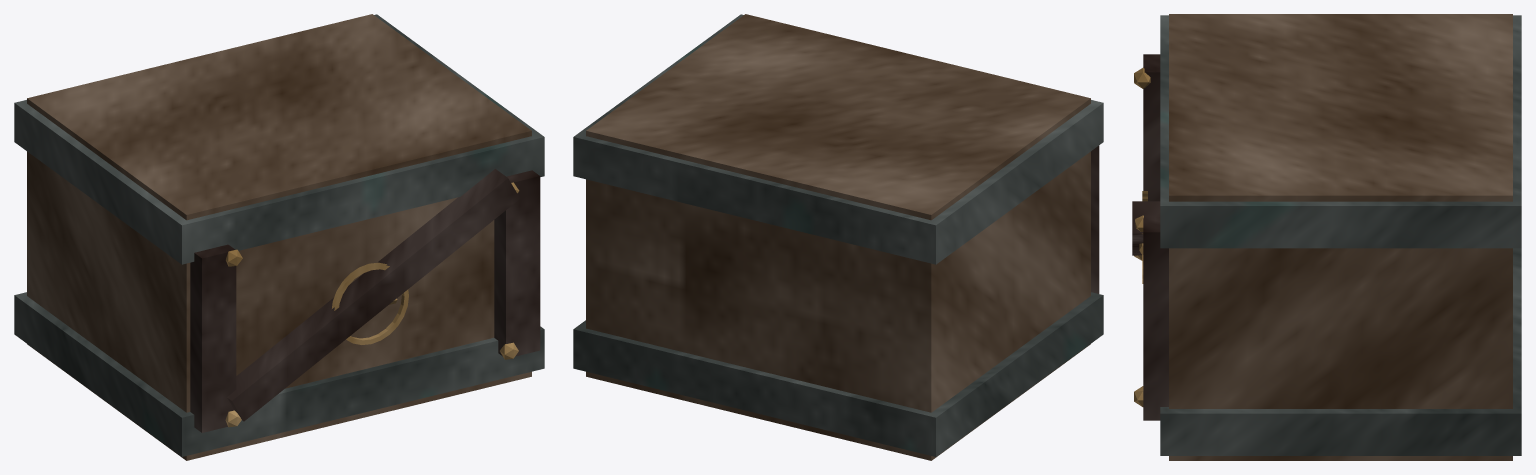
Rendered from 0739_supply_crate_14.glb.
The picture shows the model from 3 angles, left to right: view 1: azimuth 30°, elevation 25°; view 2: azimuth 150°, elevation 25°; view 3: azimuth 270°, elevation 25°; orthographic projection. The views are drawn at different scales.
Visible parts, largest first — view 1: wood, iron, wood_dark, brass; view 2: wood, iron, wood_dark; view 3: wood, iron, wood_dark, brass.
Boxes of the visible parts, <box> form: wood: <box>27,14,531,460</box>; iron: <box>14,14,544,456</box>; wood_dark: <box>190,169,540,432</box>; brass: <box>225,182,519,427</box>; wood: <box>586,14,1090,460</box>; iron: <box>573,14,1103,456</box>; wood_dark: <box>1091,145,1099,293</box>; wood: <box>1169,14,1512,460</box>; iron: <box>1160,15,1521,455</box>; wood_dark: <box>1132,54,1168,420</box>; brass: <box>1134,68,1150,406</box>.
Size of the model in its own units: 1.06 by 0.6885 by 0.9153.
Materials: 4 (4 with a texture image).
